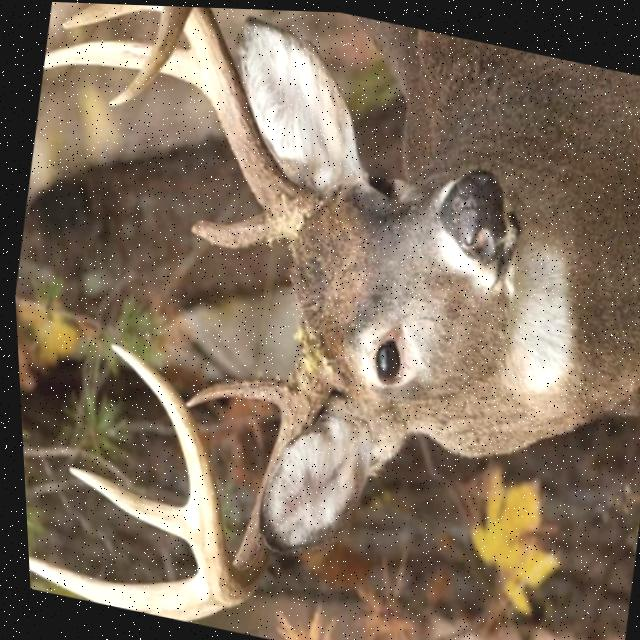L-F: (104, 313, 341, 603)
L-G1: (182, 372, 283, 407)
L-G3: (23, 555, 211, 609)
L-G4: (62, 465, 187, 542)
R-F: (106, 5, 323, 244)
R-G1: (188, 207, 280, 246)
R-G4: (61, 3, 163, 28)
